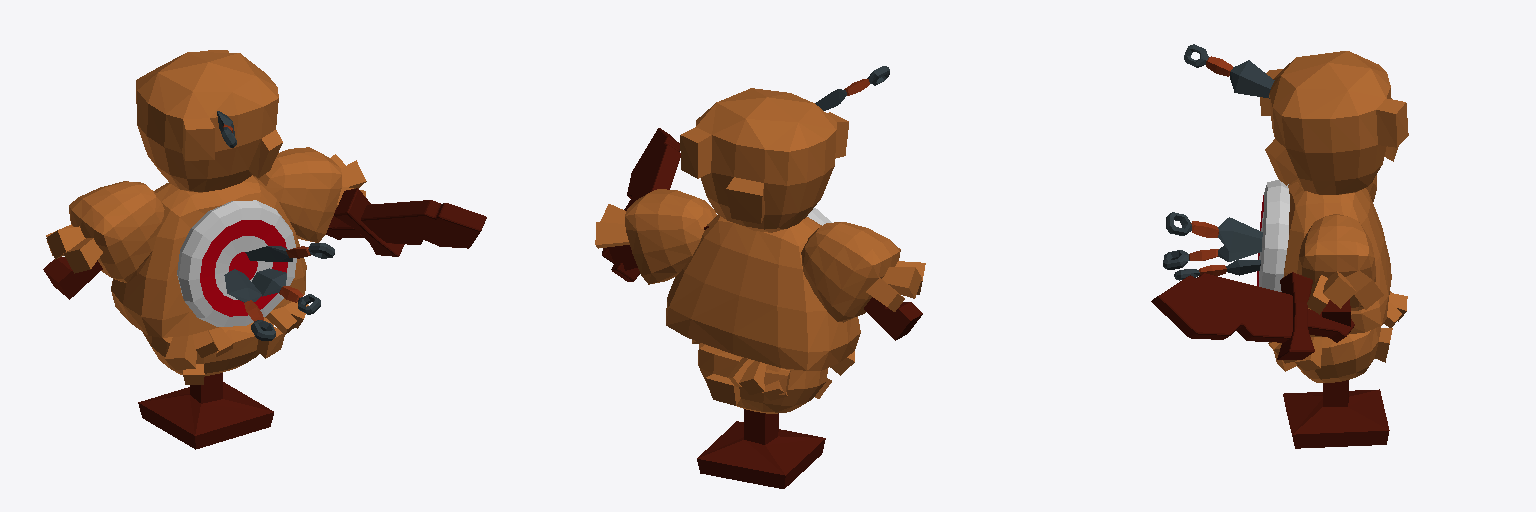
File: trainingdummy_b.obj
The picture shows the model from 3 angles: view 1: azimuth 30°, elevation 25°; view 2: azimuth 150°, elevation 25°; view 3: azimuth 270°, elevation 25°; orthographic projection.
Visible parts, largest first — view 1: trainingdummy_b_Cube.178; view 2: trainingdummy_b_Cube.178; view 3: trainingdummy_b_Cube.178.
Boxes of the visible parts, <box> form: trainingdummy_b_Cube.178: <box>43,50,486,449</box>; trainingdummy_b_Cube.178: <box>595,66,925,488</box>; trainingdummy_b_Cube.178: <box>1151,44,1408,448</box>.
Bounding box in the file's own units: 1.7 × 1.66 × 1.07.